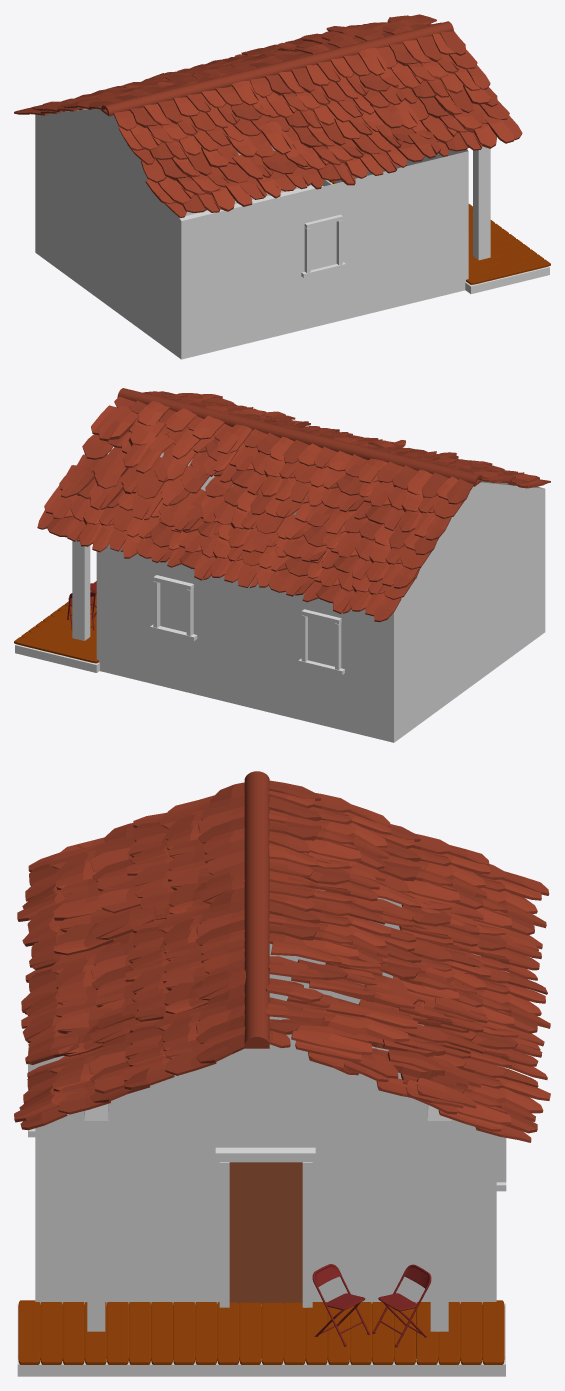
The model's file is modelocasa_2.fbx.
The picture shows the model from 3 angles, top to bottom: view 1: azimuth 30°, elevation 25°; view 2: azimuth 150°, elevation 25°; view 3: azimuth 270°, elevation 25°; orthographic projection. The views are drawn at different scales.
Visible parts, largest first — view 1: Cube.029_wall texture_0, telhas.003_Telhas_0, Cylinder.029_Telhas escuro_0, object 33, object 36, telhas_Telhas_0, telhas.001_Telhas_0, object 42, object 2, telhas.004_Telhas_0, Cube.001, telhas.005_Telhas_0 (+14 smaller); view 2: Cube.029_wall texture_0, telhas.006_Telhas_0, object 48, object 17, Cylinder.029_Telhas escuro_0, object 24, telhas.007_Telhas_0, object 8, telhas.010_Telhas_0, telhas.012_Telhas_0, object 11, Cube.001 (+24 smaller); view 3: Cube.029_wall texture_0, Cube.001, Cube.029_Material.006_0, telhas.006_Telhas_0, Cube, telhas.003_Telhas_0, Cylinder.029_Telhas escuro_0, object 48, object 33, telhas_Telhas_0, telhas.001_Telhas_0, object 2 (+40 smaller).
Part boxes in pixels (<box>): Cube.029_wall texture_0: <box>35,75,549,359</box>; telhas.003_Telhas_0: <box>145,122,308,211</box>; Cylinder.029_Telhas escuro_0: <box>101,21,453,116</box>; object 33: <box>285,103,440,189</box>; object 36: <box>141,132,312,217</box>; telhas_Telhas_0: <box>118,80,270,155</box>; telhas.001_Telhas_0: <box>260,48,398,125</box>; object 42: <box>250,54,405,131</box>; object 2: <box>113,86,274,164</box>; telhas.004_Telhas_0: <box>291,100,431,178</box>; Cube.001: <box>329,180,550,284</box>; telhas.005_Telhas_0: <box>420,84,514,148</box>; Cube.029_wall texture_0: <box>15,447,545,742</box>; telhas.006_Telhas_0: <box>91,401,252,480</box>; object 48: <box>61,435,212,531</box>; object 17: <box>182,475,335,561</box>; Cylinder.029_Telhas escuro_0: <box>117,388,482,486</box>; object 24: <box>220,429,368,512</box>; telhas.007_Telhas_0: <box>229,436,387,506</box>; object 8: <box>167,498,314,596</box>; telhas.010_Telhas_0: <box>200,488,355,557</box>; telhas.012_Telhas_0: <box>44,485,199,558</box>; object 11: <box>37,476,173,562</box>; Cube.001: <box>14,581,98,663</box>; Cube.029_wall texture_0: <box>17,889,505,1376</box>; Cube.001: <box>18,1300,504,1364</box>; Cube.029_Material.006_0: <box>229,1162,302,1303</box>; telhas.006_Telhas_0: <box>265,940,418,1061</box>; Cube: <box>84,1104,451,1331</box>; telhas.003_Telhas_0: <box>17,837,155,955</box>; Cylinder.029_Telhas escuro_0: <box>244,771,269,1048</box>; object 48: <box>352,979,487,1108</box>; object 33: <box>21,932,139,1064</box>; telhas_Telhas_0: <box>126,795,244,914</box>; telhas.001_Telhas_0: <box>125,904,246,1013</box>; object 2: <box>129,782,244,919</box>.
Bounding box in the file's own units: 947 × 491 × 744.
